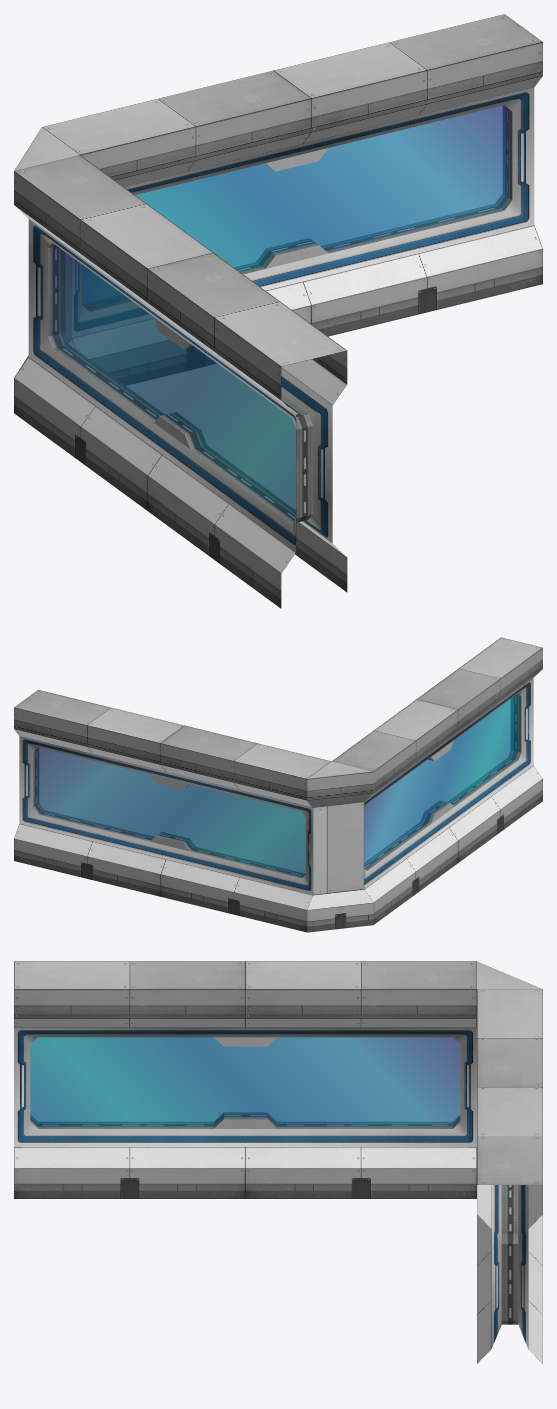
The model's file is Corner_Window_Long_01.FBX.
The picture shows the model from 3 angles, top to bottom: view 1: azimuth 30°, elevation 25°; view 2: azimuth 150°, elevation 25°; view 3: azimuth 270°, elevation 25°; orthographic projection. The views are drawn at different scales.
Visible parts, largest first — view 1: Corner_Window_Long_01; view 2: Corner_Window_Long_01; view 3: Corner_Window_Long_01.
Part boxes in pixels (left/top/right/bottom): Corner_Window_Long_01: left=14, top=14, right=542, bottom=608; Corner_Window_Long_01: left=14, top=637, right=542, bottom=932; Corner_Window_Long_01: left=14, top=961, right=542, bottom=1363.
Bounding box in the file's own units: 320 × 140 × 320.
